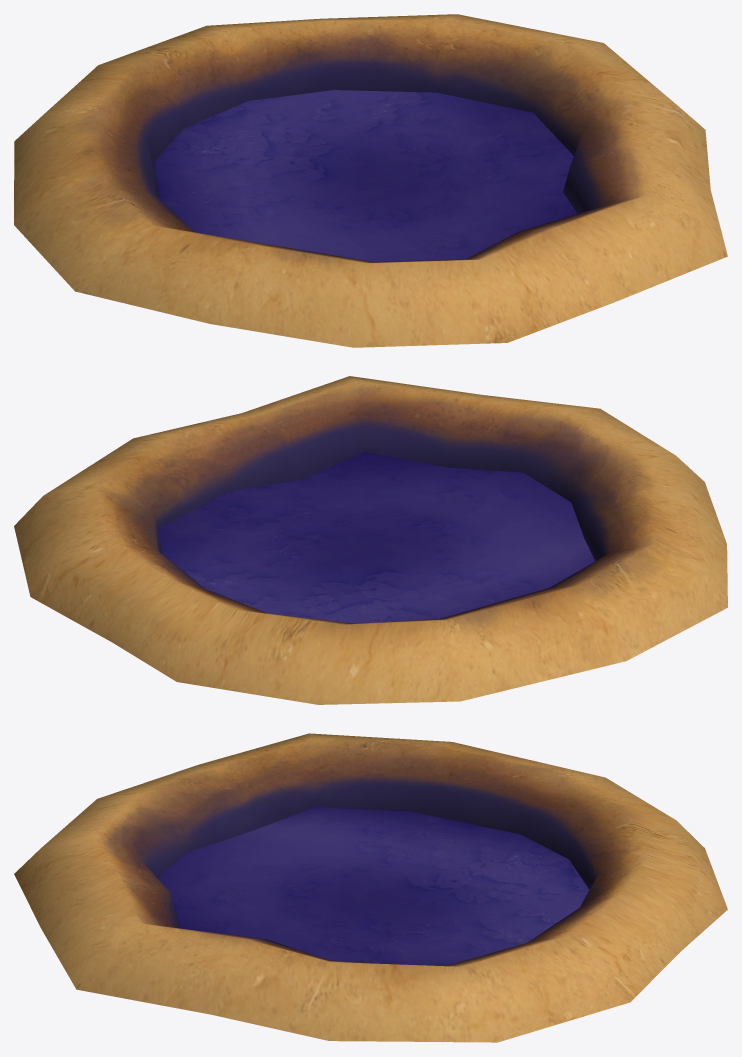
The model's file is desert_pollution_oasis.FBX.
3 renders of one model, top to bottom at view 1: azimuth 30°, elevation 25°; view 2: azimuth 150°, elevation 25°; view 3: azimuth 270°, elevation 25°, orthographic. The views are drawn at different scales.
Parts seen in each view (by area): view 1: Cylinder034; view 2: Cylinder034; view 3: Cylinder034.
Part boxes in pixels (left/top/right/bottom): Cylinder034: left=14, top=14, right=727, bottom=347; Cylinder034: left=14, top=376, right=727, bottom=704; Cylinder034: left=14, top=733, right=727, bottom=1042.
Bounding box in the file's own units: 57.78 × 4.22 × 59.67.
